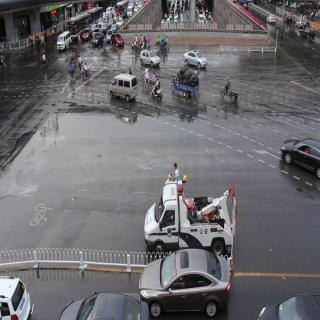Car: (144, 187, 237, 253), (138, 254, 232, 318), (59, 287, 154, 320), (282, 133, 320, 182), (112, 73, 136, 107), (184, 48, 208, 73), (140, 48, 161, 68), (56, 31, 72, 50), (91, 32, 106, 50), (110, 30, 124, 49)
